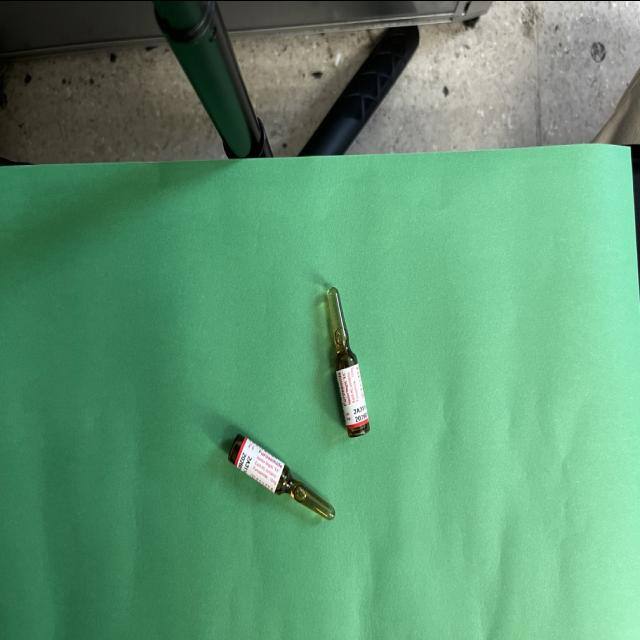Ampoules: (228, 433, 335, 519), (328, 286, 370, 436)
